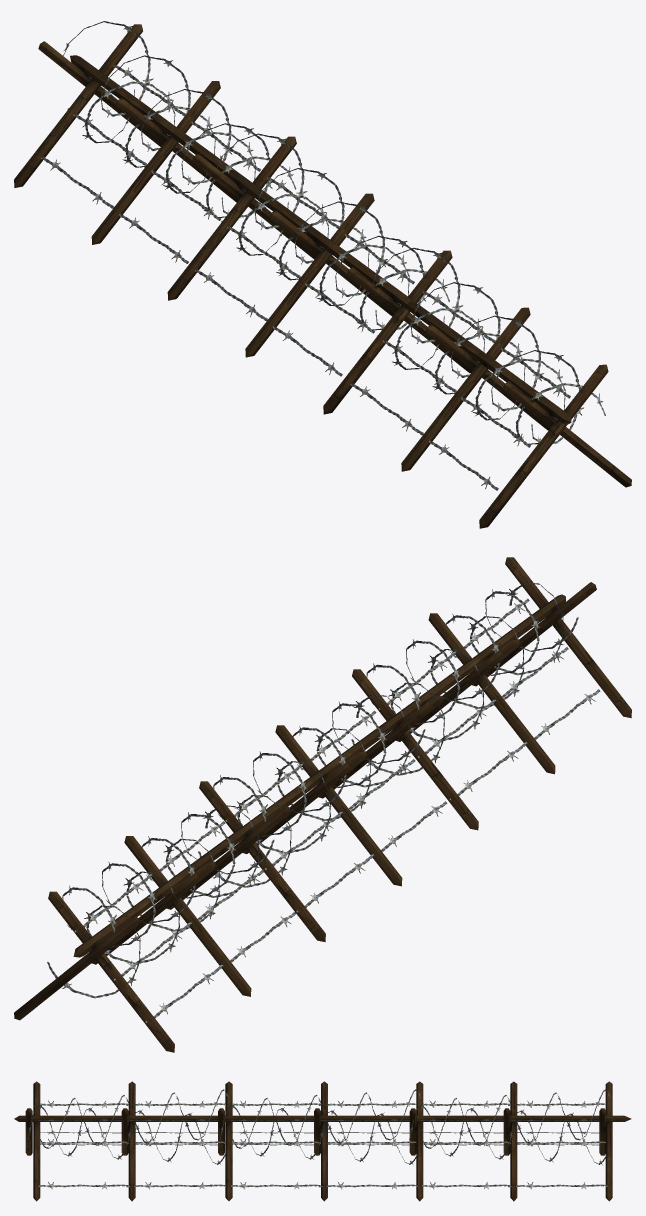
File: cf_sm_wire.obj
3 views of the same model, one above another, from view 1: azimuth 30°, elevation 25°; view 2: azimuth 150°, elevation 25°; view 3: azimuth 270°, elevation 25° (orthographic). The views are drawn at different scales.
Parts seen in each view (by area): view 1: polySurface8.002_polySurface8.003; view 2: polySurface8.002_polySurface8.003; view 3: polySurface8.002_polySurface8.003.
Boxes of the visible parts, x1,y1,x2,y2 form: polySurface8.002_polySurface8.003: [14, 21, 631, 528]; polySurface8.002_polySurface8.003: [14, 557, 631, 1052]; polySurface8.002_polySurface8.003: [14, 1081, 631, 1201].
Bounding box in the file's own units: 2.97 × 2.78 × 16.35.
